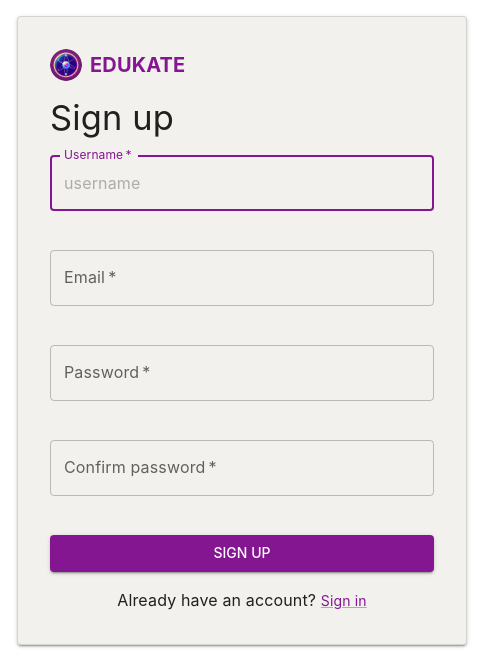
Scenario: SignUpForm › shows email verification prompt after successful submission with matching passwords
Type "alice01" into the field labelled "Username *".
click(242, 184); type("alice01")  # box [50, 156, 434, 212]
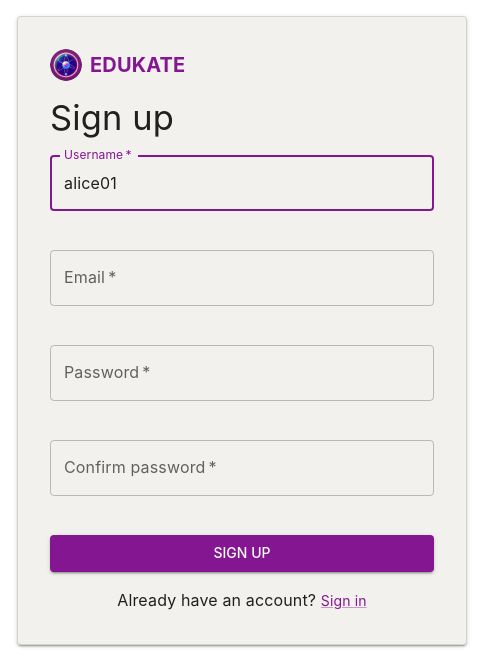
Type "alice@example.com" into the field labelled "Email *".
click(242, 278); type("alice@example.com")  # box [50, 250, 434, 306]
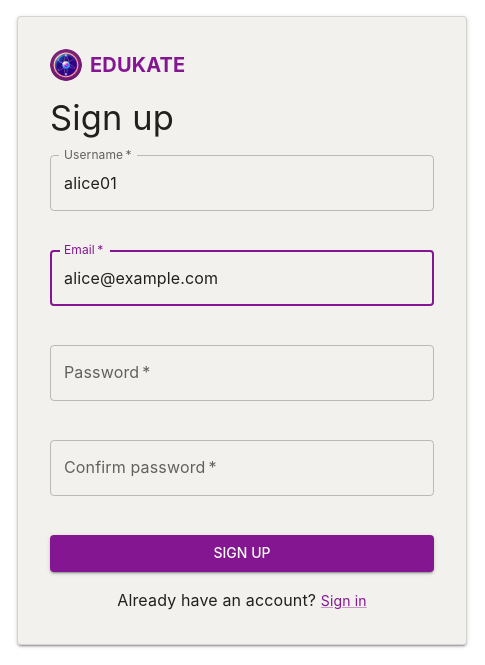
Type "secret123" into the password field labelled "Password *".
click(242, 373); type("secret123")  # box [50, 345, 434, 401]
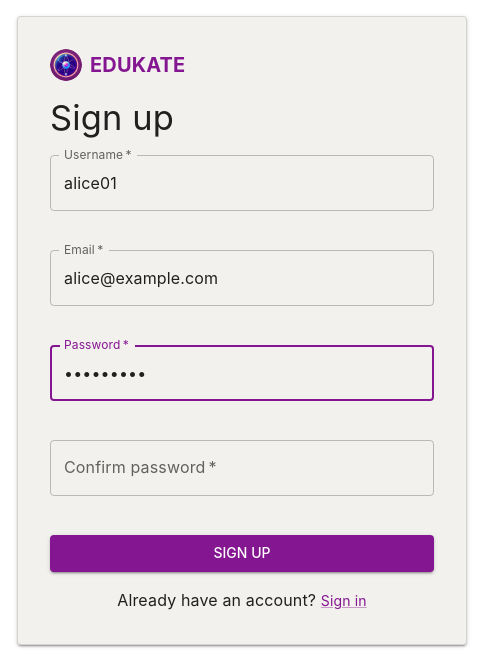
Type "secret123" into the password field labelled "Confirm password *".
click(242, 468); type("secret123")  # box [50, 440, 434, 496]
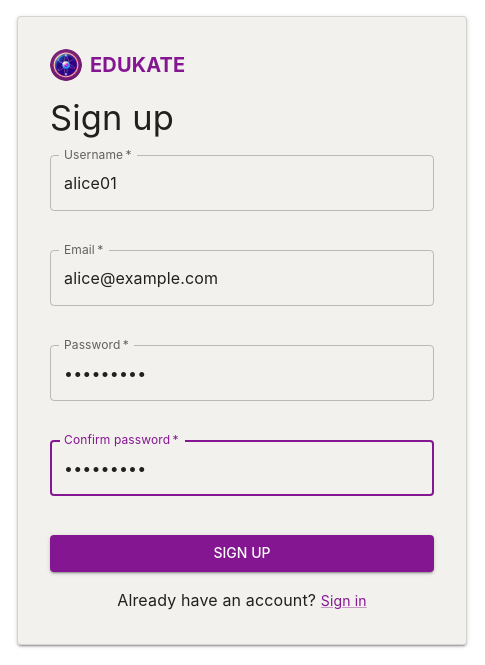
Click the button "Sign up".
click(242, 553)  # box [50, 535, 434, 572]
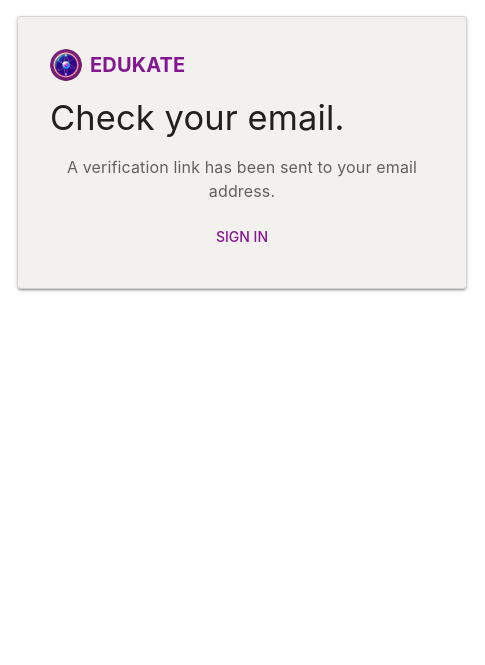
Expected: the heading "Check your email." is shown, [50, 97, 344, 138]
